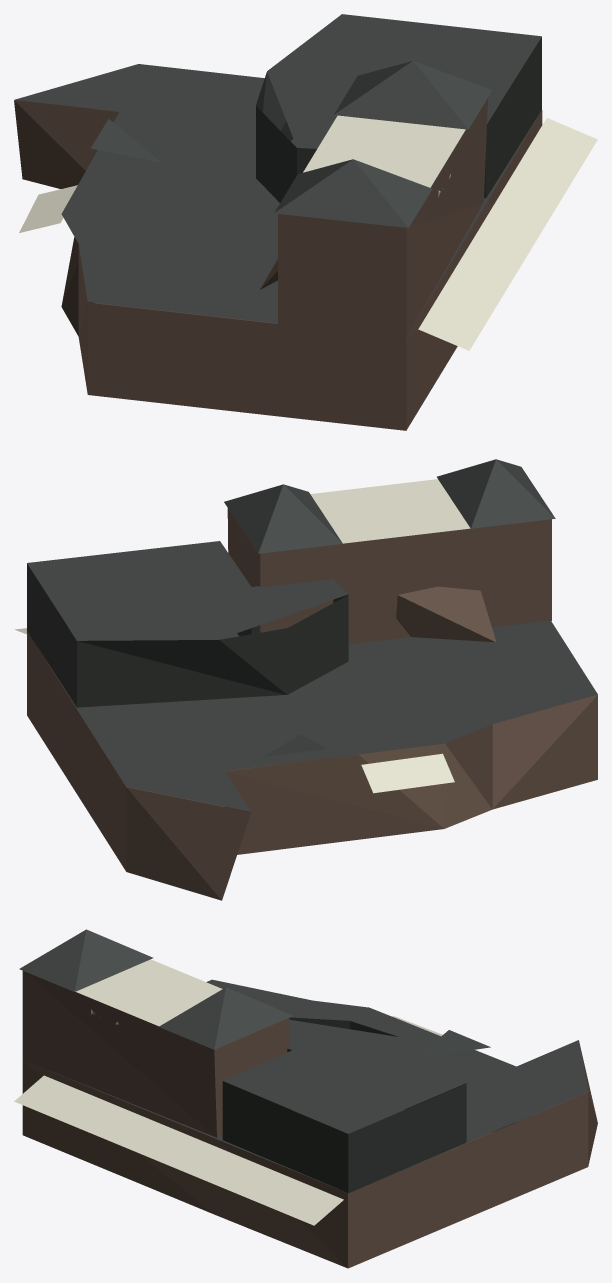
Rendered from brouwerij-het-ij.lod2.glb.
3 views of the same model, one above another, from view 1: azimuth 30°, elevation 25°; view 2: azimuth 150°, elevation 25°; view 3: azimuth 270°, elevation 25° (orthographic). The views are drawn at different scales.
Parts seen in each view (by area): view 1: lod2; view 2: lod2; view 3: lod2.
Part boxes in pixels (left/top/right/bottom): lod2: left=14, top=14, right=597, bottom=430; lod2: left=15, top=459, right=597, bottom=900; lod2: left=14, top=929, right=597, bottom=1268.
Size of the model in its own units: 25.57 by 10.51 by 27.76.
